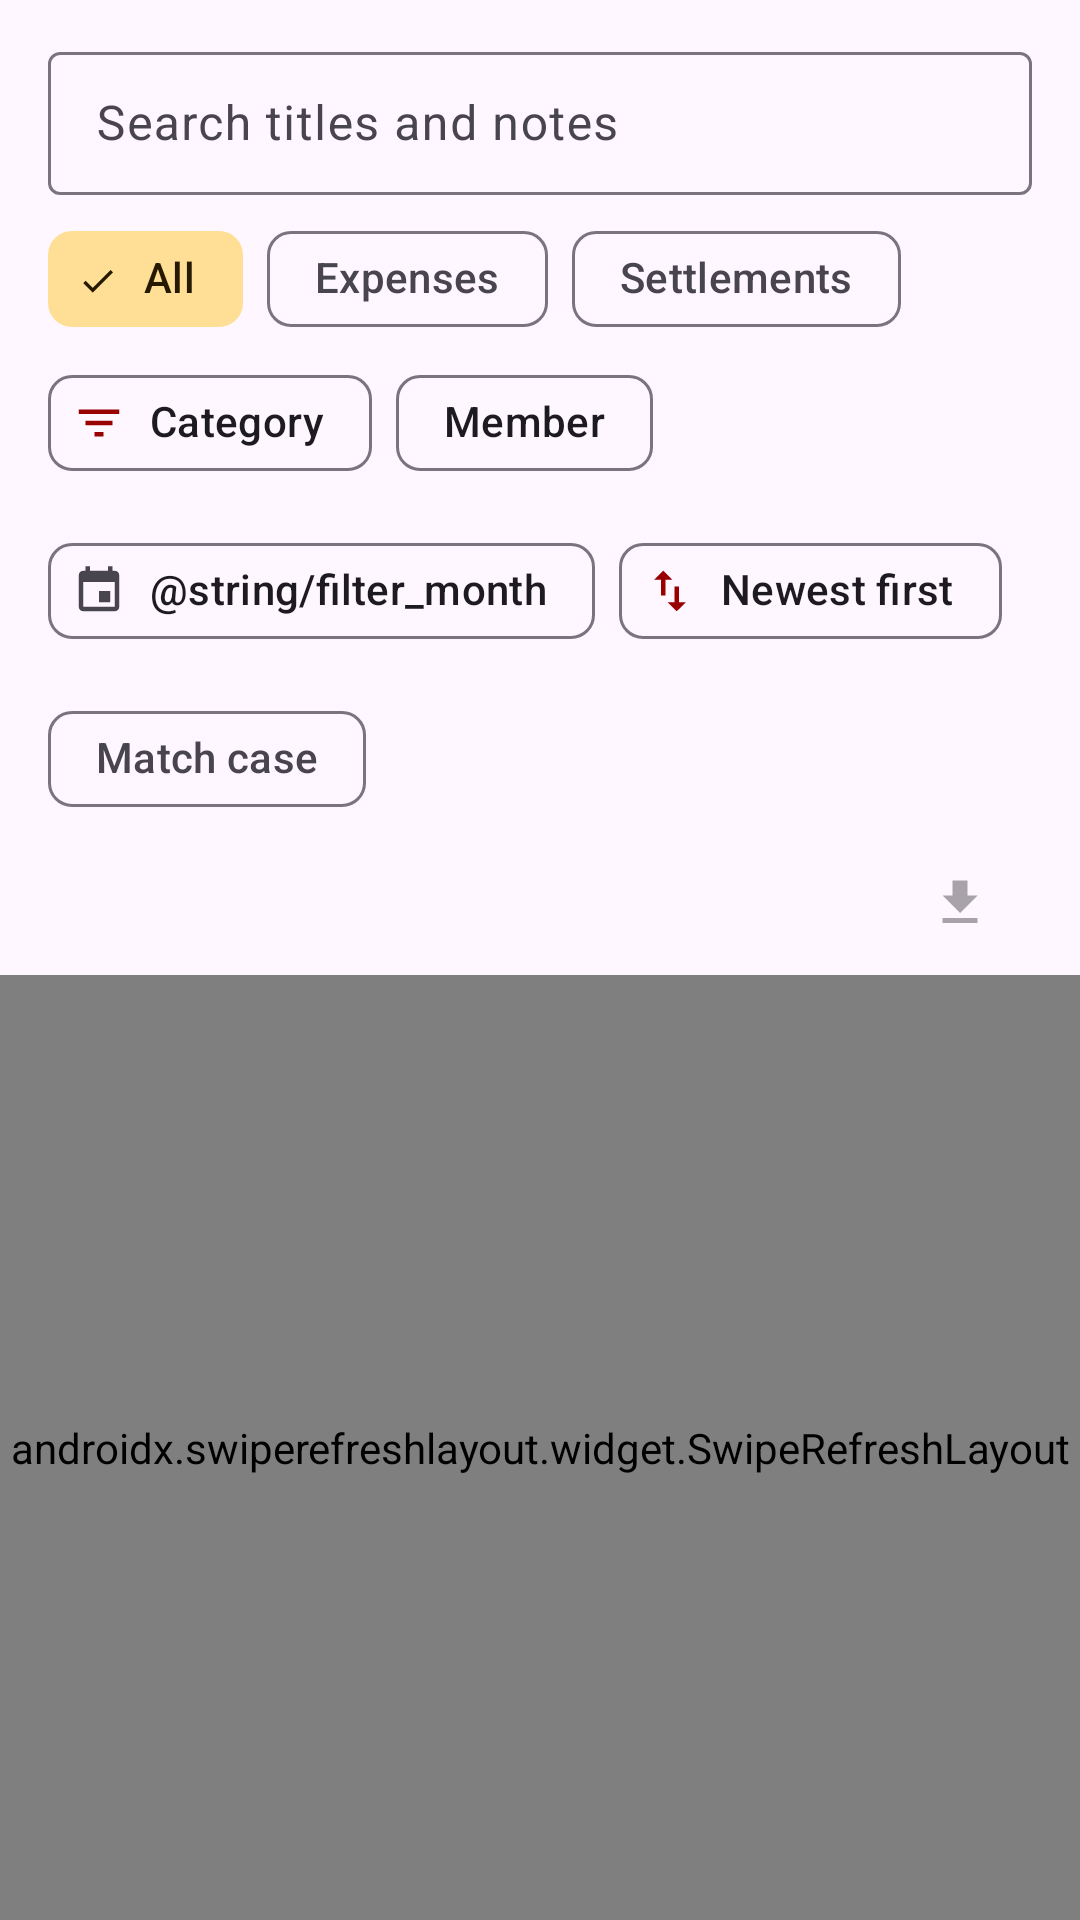

Named icons in this screenshot (1080*1920) and their bounding boxes, (x1, y1, x2, y2):
download: (942, 880, 978, 923)
